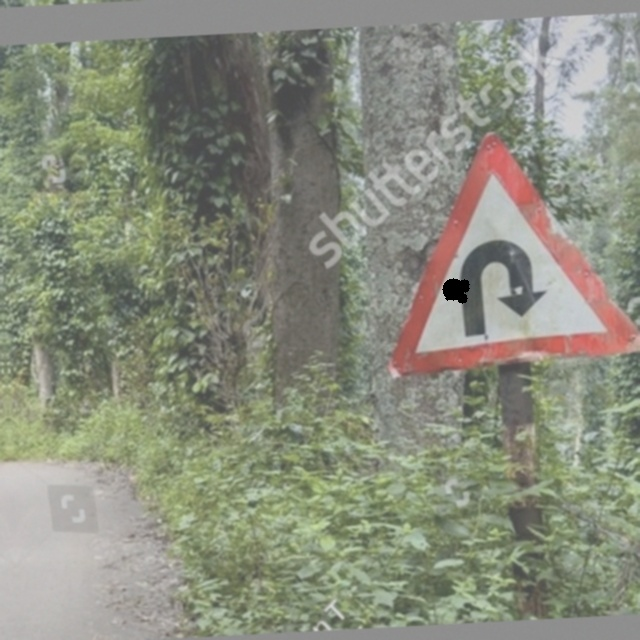Right_Hair_Pin_Bend: (389, 123, 639, 366)
